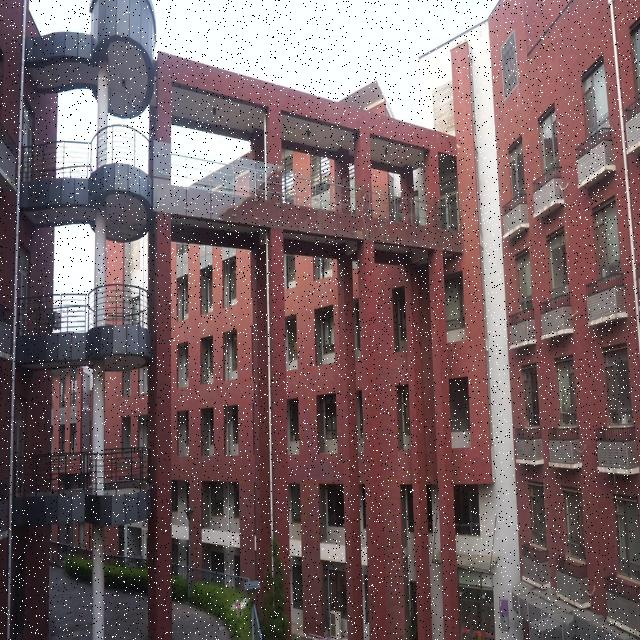UAV: (230, 598, 249, 616)
